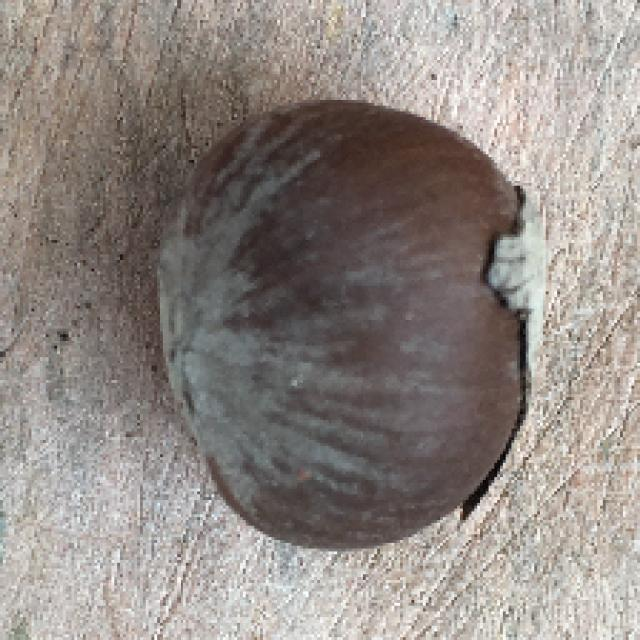damagedHazelnut: (145, 86, 553, 571)
